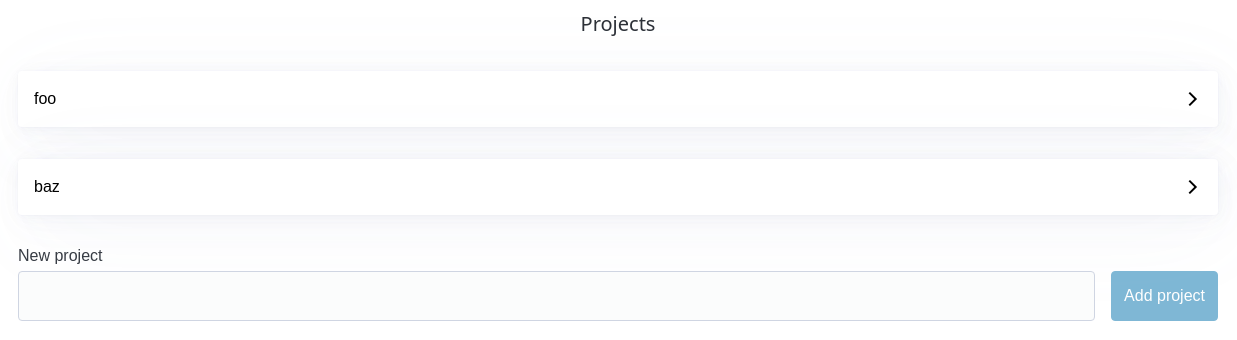
Test: projects page › adding a project the save project button is disabled
Step 1. Type "new project" into the field with test id "new-project-input" → (557, 296), box [18,271,1095,321]
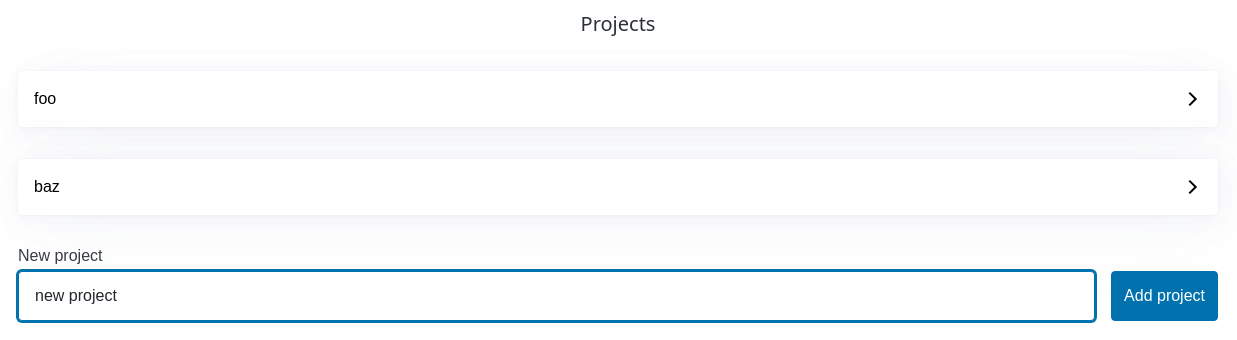
Step 2. Click the button with test id "save-project-btn" → (1165, 296), box [1111,271,1218,321]
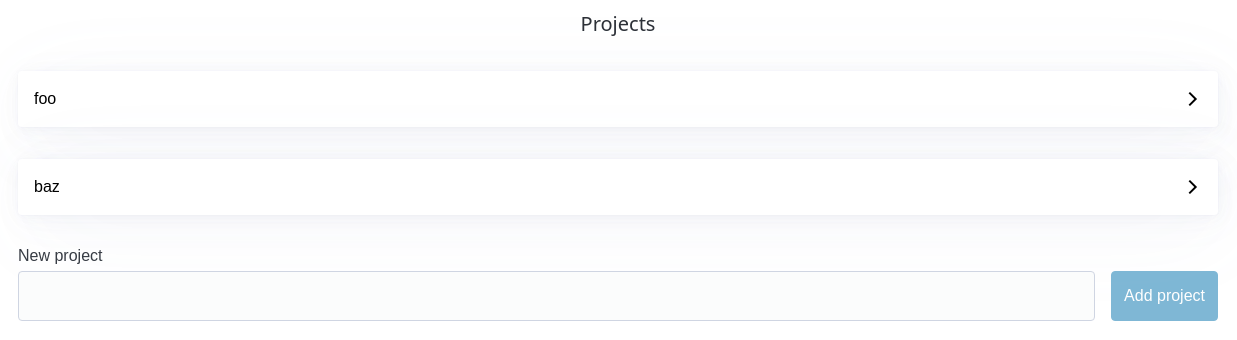
Expected: the button with test id "save-project-btn" is disabled, [1111,271,1218,321]
